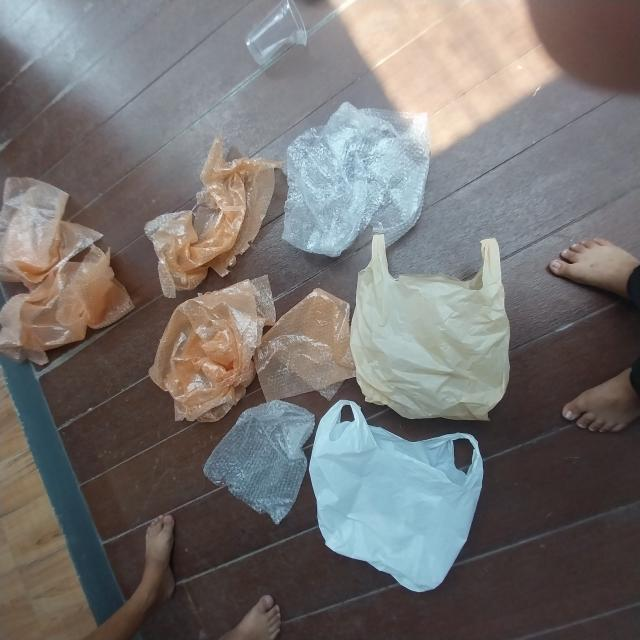Single-layer Plastic: (310, 400, 482, 591), (350, 235, 510, 420), (282, 102, 430, 256), (145, 135, 281, 298), (149, 276, 275, 422), (0, 245, 134, 365), (204, 400, 315, 524), (0, 178, 102, 289), (255, 289, 355, 401)
